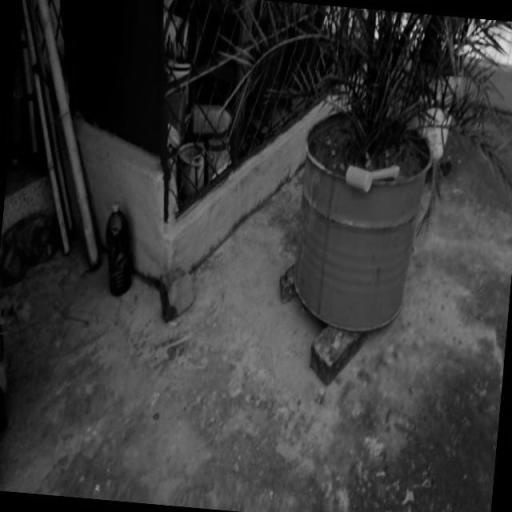mallet: (345, 158, 401, 197)
